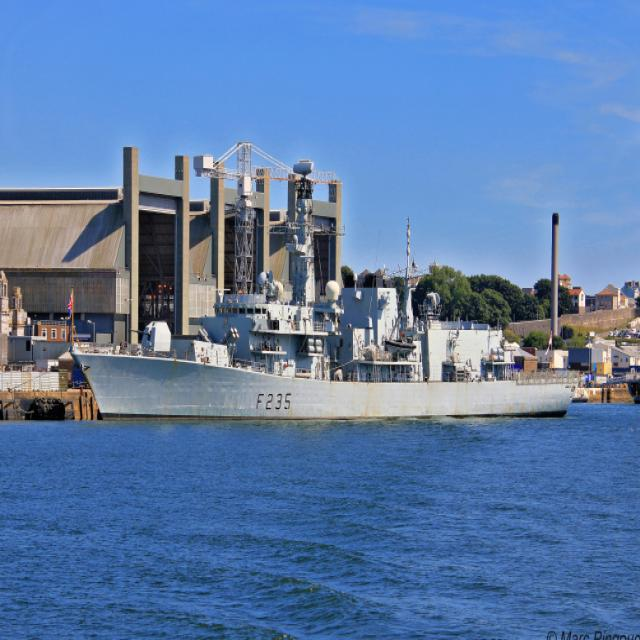Fragata: (65, 210, 581, 427)
